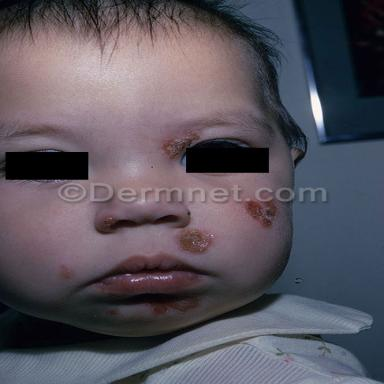Impetigo: (162, 133, 200, 159), (244, 200, 278, 227), (177, 229, 214, 253), (152, 299, 198, 315), (104, 217, 119, 227)
